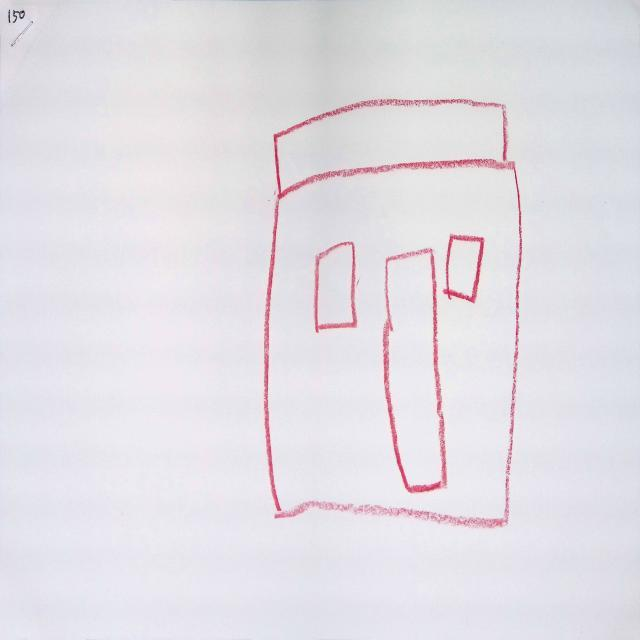door: (384, 249, 448, 494)
house: (265, 98, 523, 528)
roof: (278, 100, 508, 190)
window: (316, 243, 358, 332), (445, 235, 485, 303)
